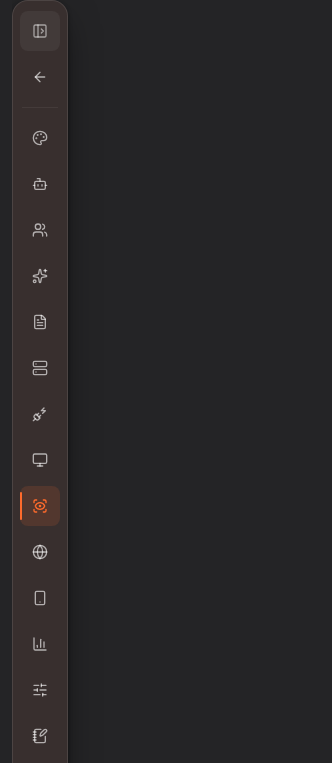
Test: Sidebar projects section (fixture ProjectsBackend) › R66 (B4, restored R102-C): minimizing ON A SETTINGS ROUTE shows the SETTINGS rail — back + per-tab icons, no projects
This screenshot has width=332, height=763.
# Back-to-dashboard from the rail returns home.
Step 1. Click the button with test id "rail-back-dashboard" → (40, 77), box left=20, top=57, right=60, bottom=97
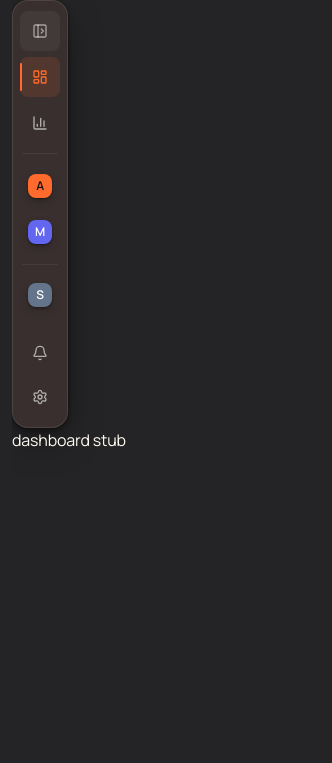
Expected: the text "dashboard stub" is shown, left=12, top=429, right=126, bottom=451
